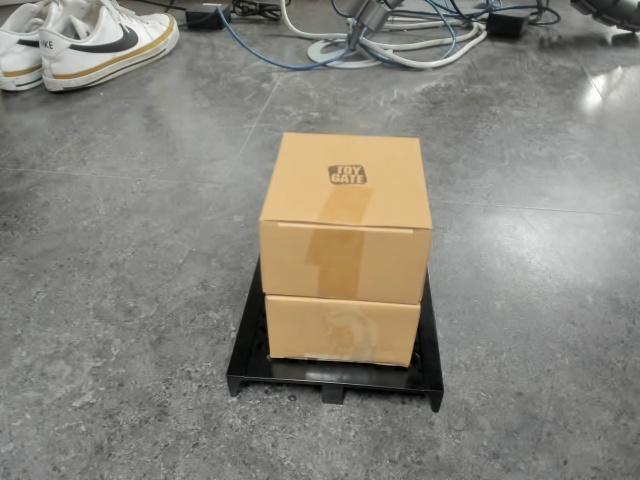box: (225, 130, 447, 413)
